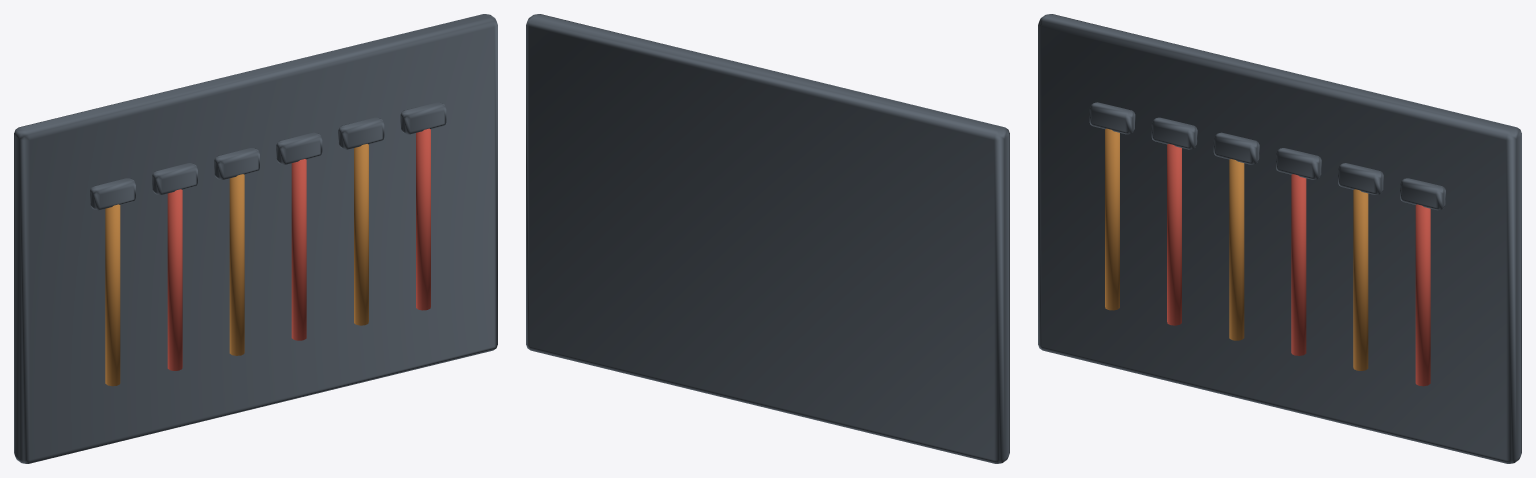
File: workshop-pegboard.glb
3 views of the same model, side by side, from view 1: azimuth 30°, elevation 25°; view 2: azimuth 150°, elevation 25°; view 3: azimuth 330°, elevation 25° (orthographic).
Parts seen in each view (by area): view 1: interior_2_metal.001, interior_2_red.002, interior_2_wood.001; view 2: interior_2_metal.001; view 3: interior_2_metal.001, interior_2_wood.001, interior_2_red.002.
Boxes of the visible parts, box(x1,y1,x2,y2) form: interior_2_metal.001: box(14, 14, 497, 463); interior_2_red.002: box(167, 128, 430, 370); interior_2_wood.001: box(105, 144, 368, 386); interior_2_metal.001: box(526, 14, 1009, 463); interior_2_metal.001: box(1038, 14, 1521, 463); interior_2_wood.001: box(1105, 128, 1368, 370); interior_2_red.002: box(1167, 144, 1430, 386).
Bounding box in the file's own units: 1.8 × 1.2 × 0.145.
